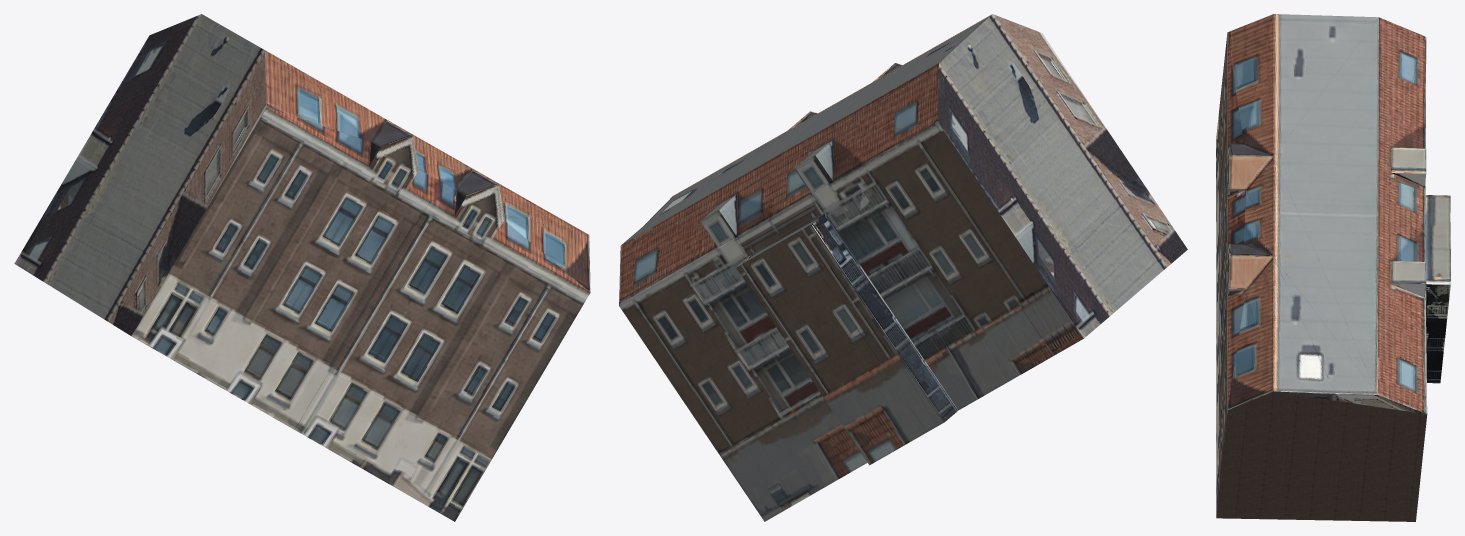
The picture shows the model from 3 angles, left to right: view 1: azimuth 30°, elevation 25°; view 2: azimuth 150°, elevation 25°; view 3: azimuth 270°, elevation 25°; orthographic projection. The views are drawn at different scales.
Parts seen in each view (by area): view 1: BAG_0599100000688733 (×5); view 2: BAG_0599100000688733 (×7); view 3: BAG_0599100000688733 (×8).
Part boxes in pixels (x1,y1,x2,y2): BAG_0599100000688733 (×5): (14,14,590,521); BAG_0599100000688733 (×7): (619,14,1187,521); BAG_0599100000688733 (×8): (1216,14,1450,521).
Size of the model in its own units: 23.44 by 22.31 by 10.75.
9 materials, 9 textured.
